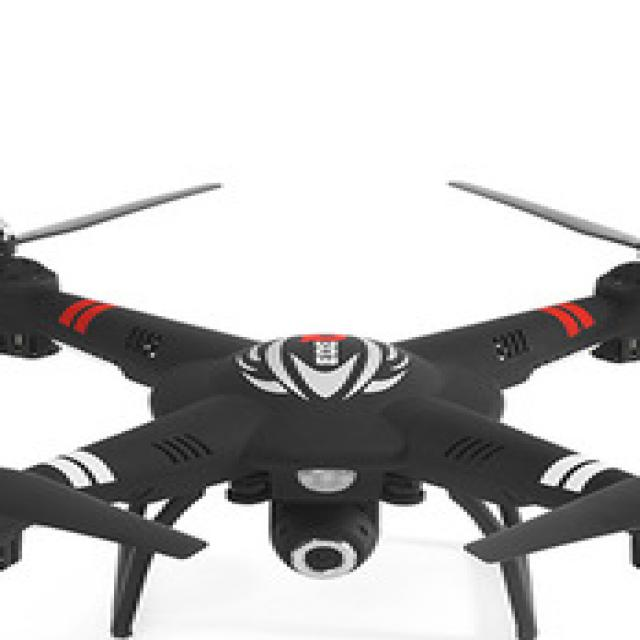drone: (0, 162, 640, 611)
